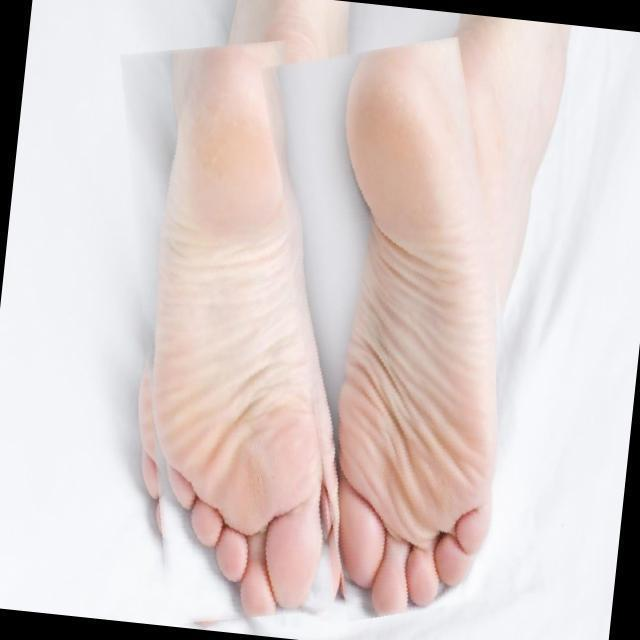No_Shoes: (130, 40, 334, 603), (324, 70, 526, 620)
